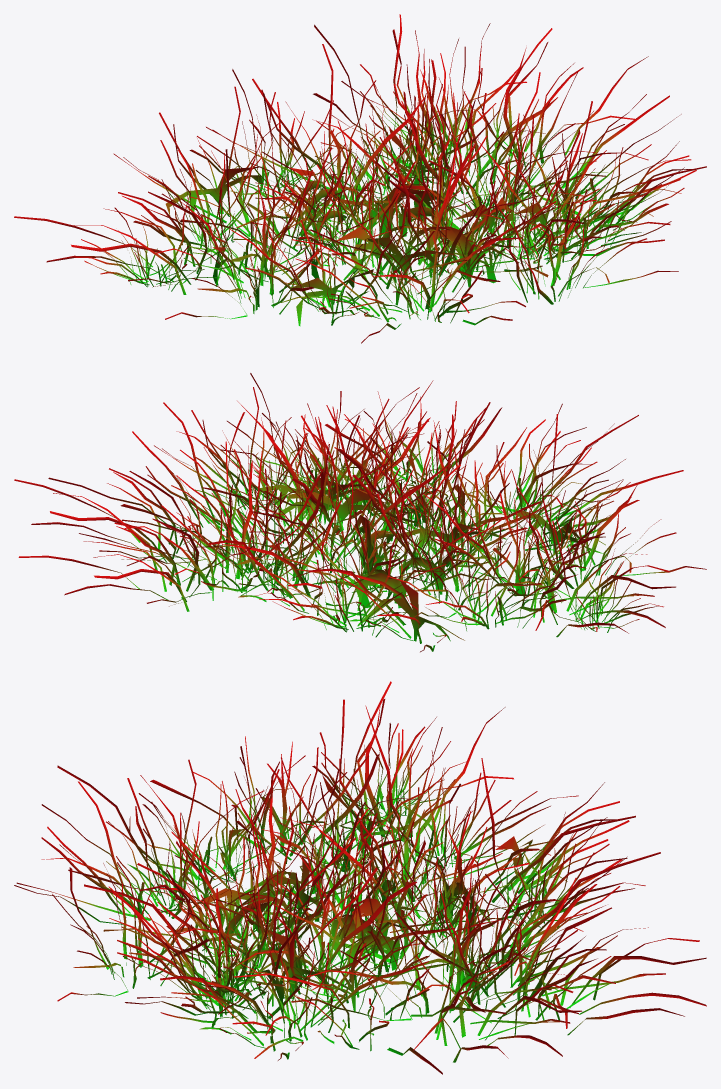
File: Tundra Grass_LOD1_Var26_wk2oaeyqx.fbx
The picture shows the model from 3 angles, top to bottom: view 1: azimuth 30°, elevation 25°; view 2: azimuth 150°, elevation 25°; view 3: azimuth 270°, elevation 25°; orthographic projection. The views are drawn at different scales.
Visible parts, largest first — view 1: _6n27_Var26_LOD1; view 2: _6n27_Var26_LOD1; view 3: _6n27_Var26_LOD1.
Part boxes in pixels (<box>): _6n27_Var26_LOD1: <box>14,14,706,343</box>; _6n27_Var26_LOD1: <box>14,373,706,652</box>; _6n27_Var26_LOD1: <box>14,681,706,1074</box>.
Bounding box in the file's own units: 95.18 × 21.16 × 77.78.
